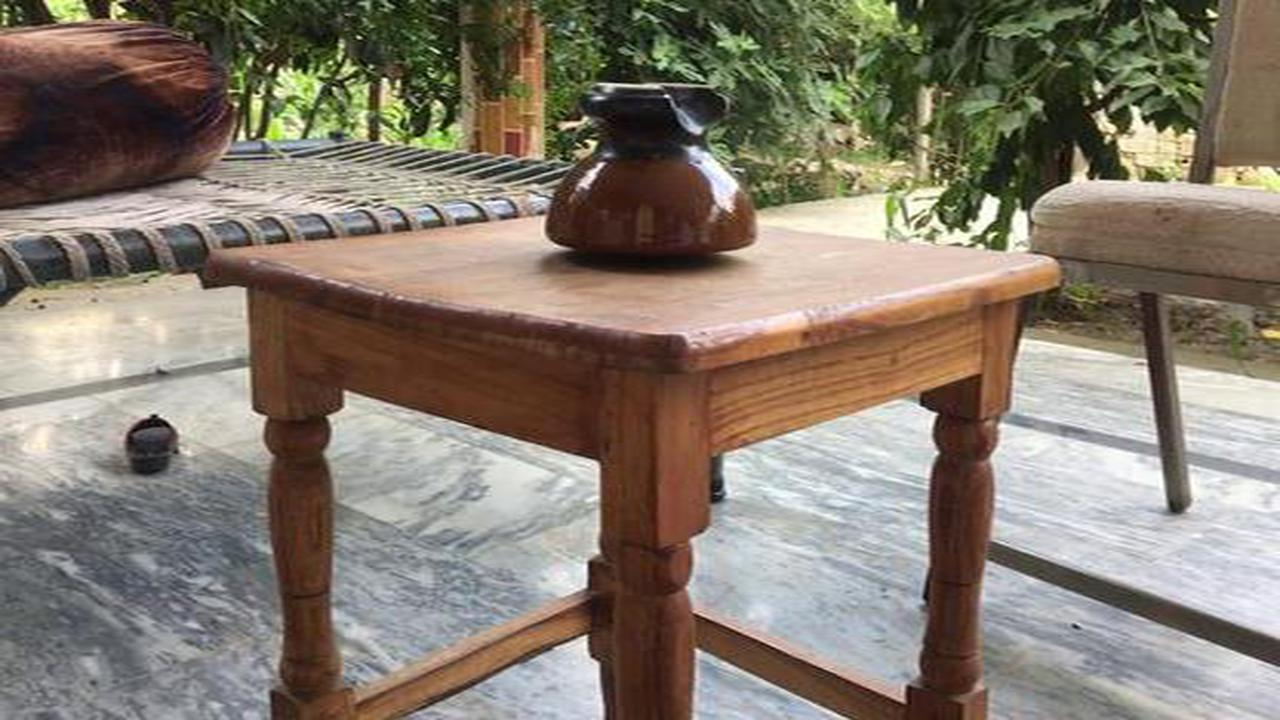insulator_pin: (539, 70, 770, 267)
